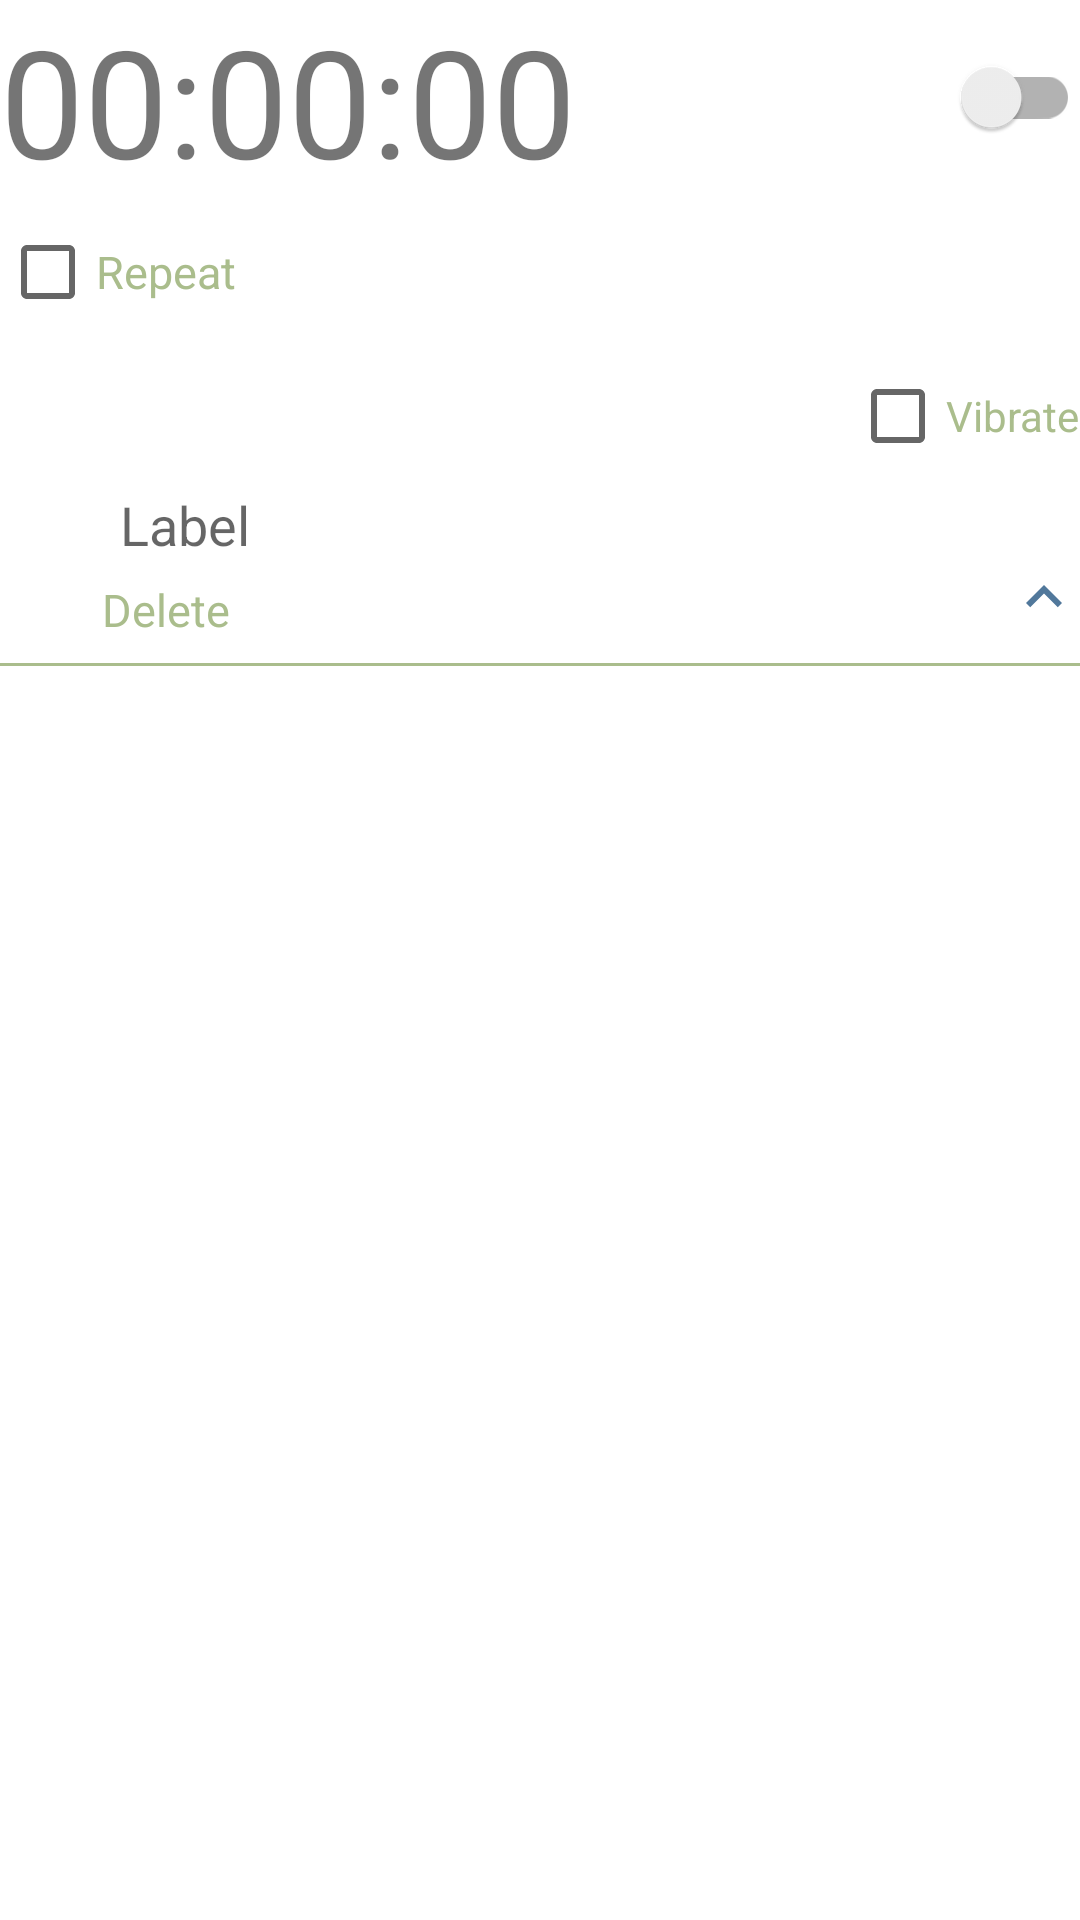

Point at icon controls on the screen. Image size 1080x1920, points as (x=x, y=y).
up arrow: (x=1044, y=596)
